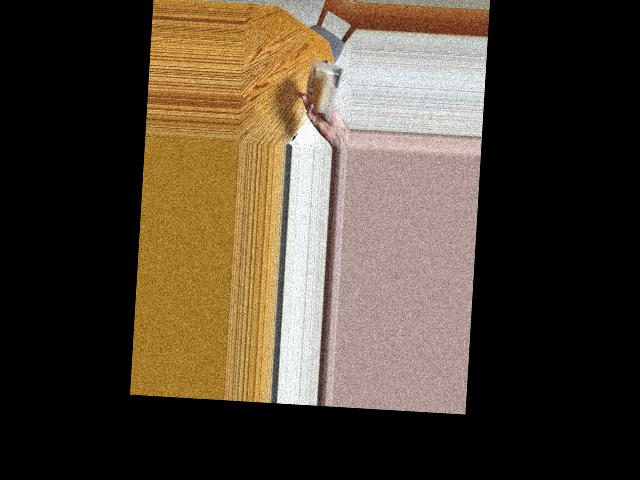cheese: (306, 63, 339, 111)
